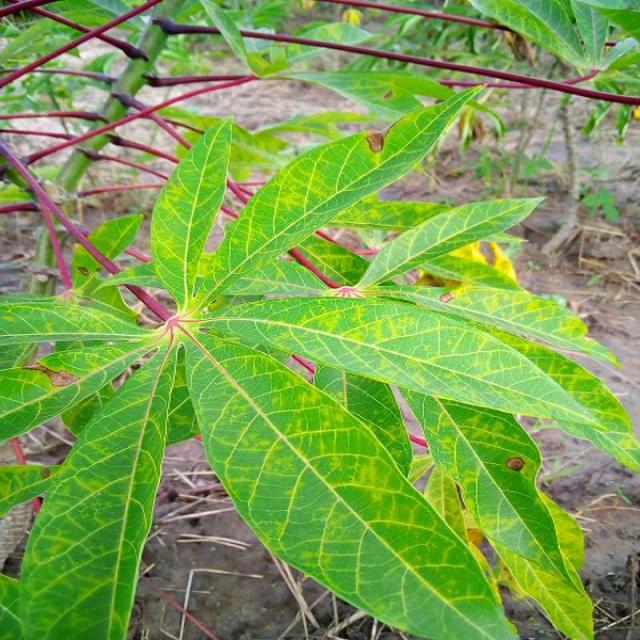cassava leaf: (0, 78, 638, 638), (181, 324, 520, 638)
